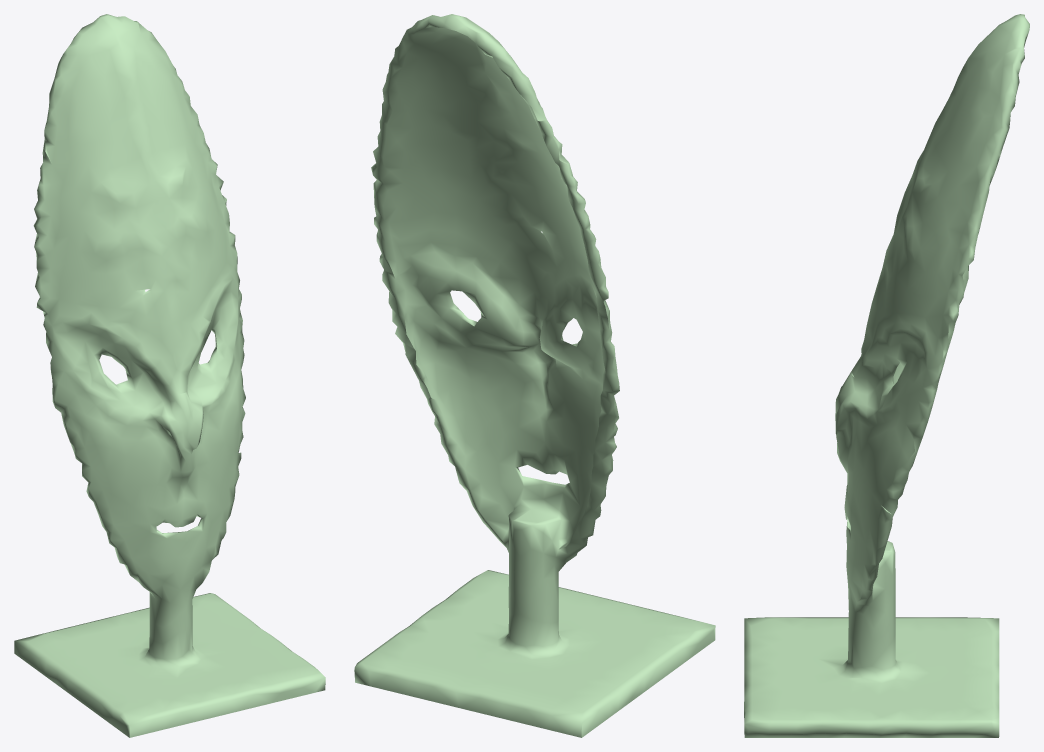
File: mask_4.fbx
3 renders of one model, left to right at view 1: azimuth 30°, elevation 25°; view 2: azimuth 150°, elevation 25°; view 3: azimuth 270°, elevation 25°, orthographic. The views are drawn at different scales.
Parts seen in each view (by area): view 1: SM_mask_4; view 2: SM_mask_4; view 3: SM_mask_4.
Boxes of the visible parts, <box> form: SM_mask_4: <box>14,14,325,737</box>; SM_mask_4: <box>354,14,715,737</box>; SM_mask_4: <box>744,14,1029,737</box>.
Size of the model in its own units: 15.58 by 44.9 by 17.36.
